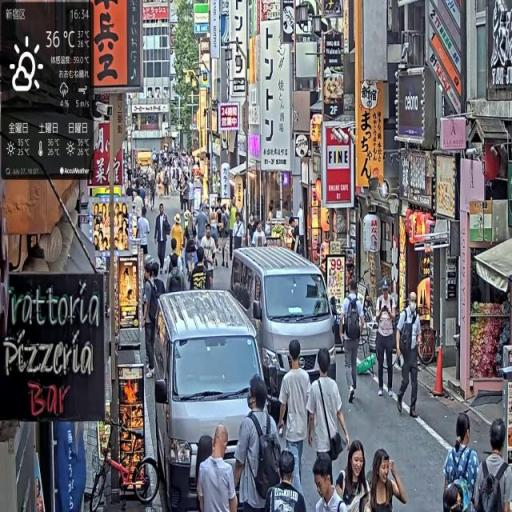person: (233, 374, 285, 511), (308, 348, 352, 484), (279, 339, 313, 501), (442, 414, 482, 512), (396, 288, 425, 422), (197, 425, 239, 512), (474, 421, 512, 512), (341, 276, 366, 407), (375, 279, 400, 402), (264, 450, 309, 512), (368, 448, 409, 512), (143, 261, 166, 375), (338, 439, 371, 512), (311, 452, 350, 512), (156, 205, 172, 276), (166, 254, 188, 294), (137, 206, 151, 268)
